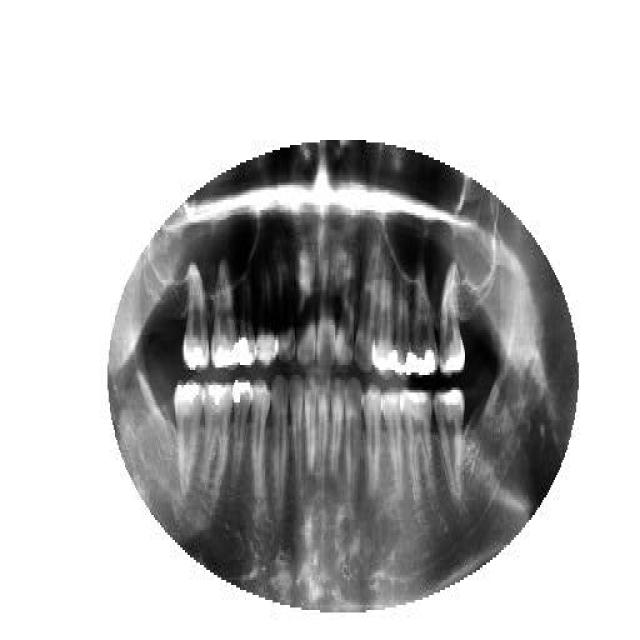Fillings: (174, 380, 205, 495), (436, 265, 466, 377), (210, 262, 239, 368), (410, 267, 438, 375), (182, 260, 210, 368), (372, 262, 398, 378), (205, 382, 230, 492), (231, 380, 254, 485), (236, 268, 256, 368), (393, 278, 412, 378)
